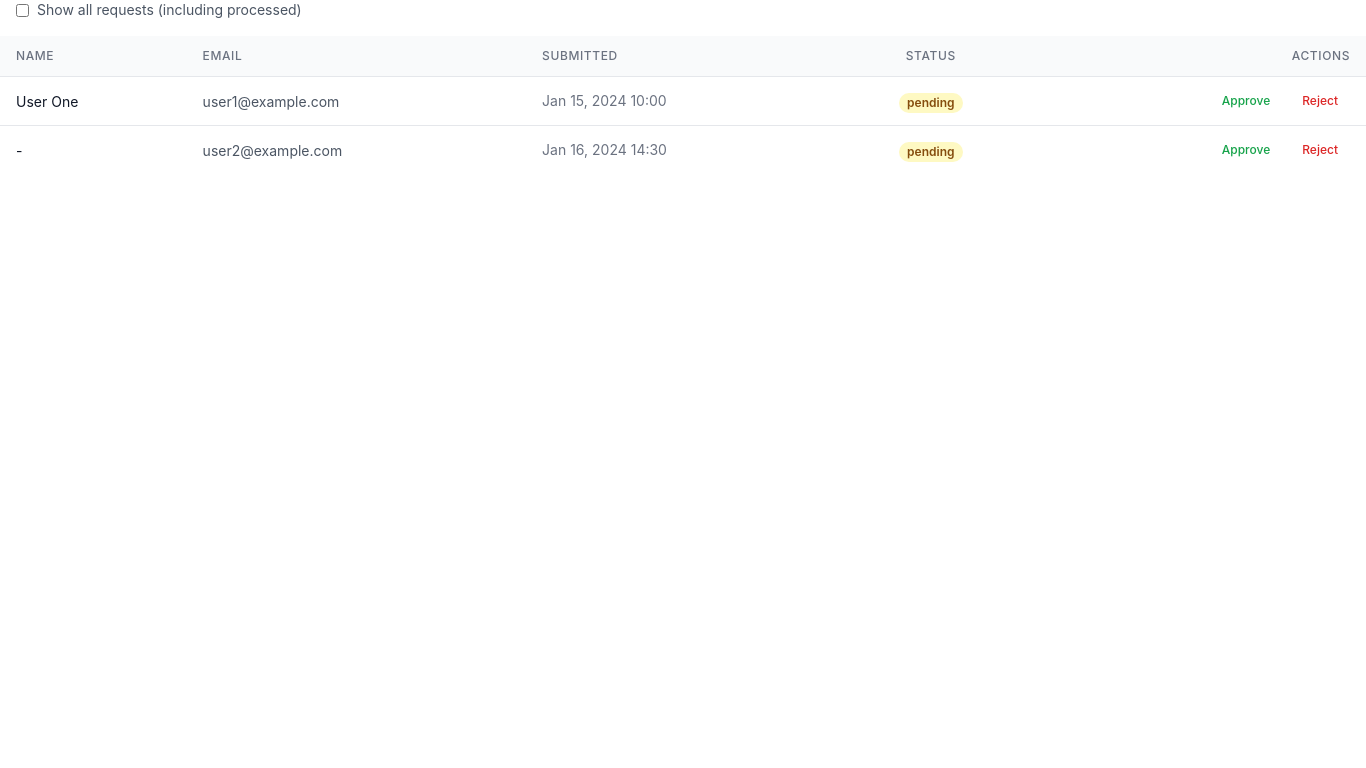
it: RegistrationRequests › should close reject modal when cancel is clicked
This screenshot has width=1366, height=768.
Check: the text "user1@example.com" is shown, box [203,93,339,110]
// Open reject modal
Click the button "Reject" in the row of "User One" at (1320, 101), box [1290,89,1350,113]
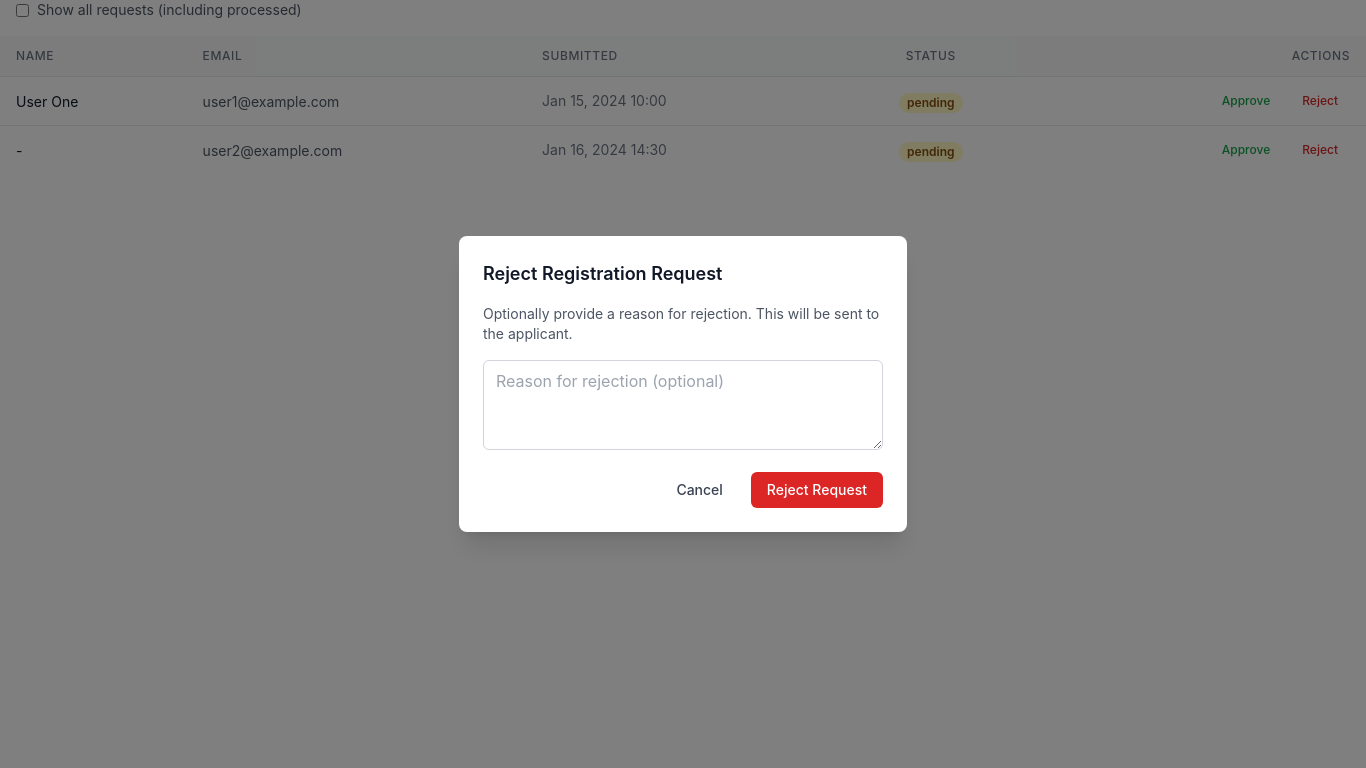
Check: the heading "Reject Registration Request" is shown, box [483,263,722,284]
// Click cancel
Click the button "Cancel" at (700, 490), box [660,472,739,508]
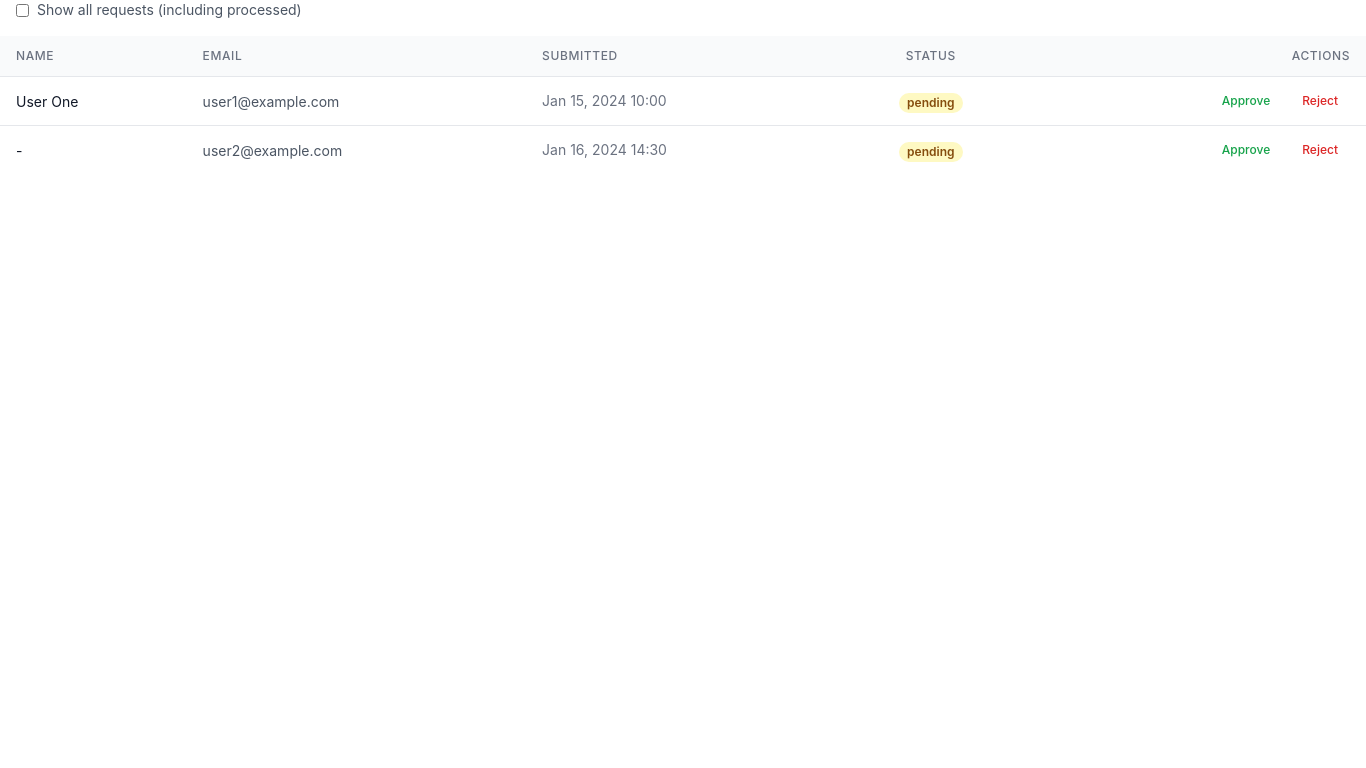
Check: the heading "Reject Registration Request" is gone
